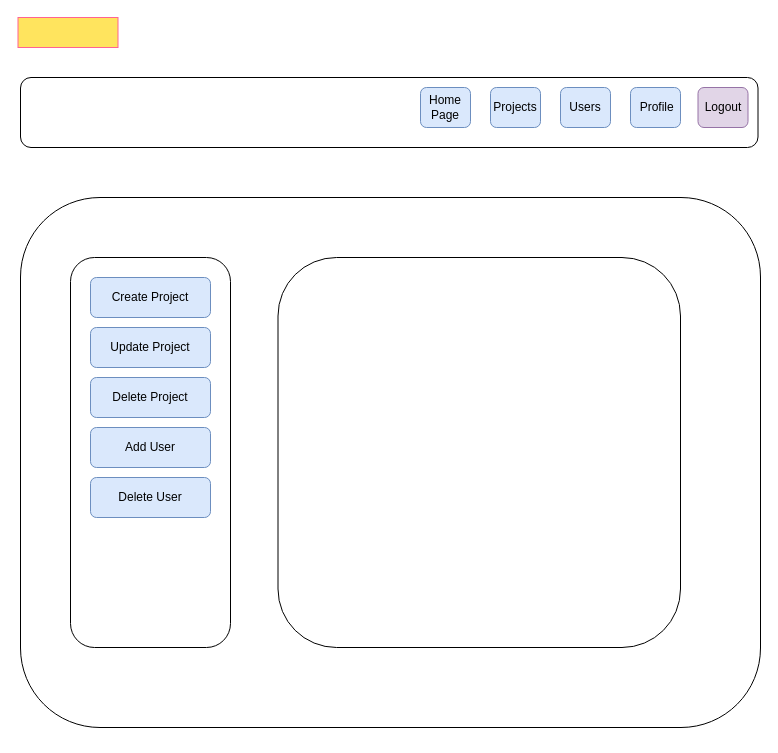
Some shapes in this 778 by 753 pixel diagram are drawn without their labels. Each missing label, with the centre of its shape:
"Project list" goes at pixel 478 452.
"Project page" goes at pixel 67 32.
